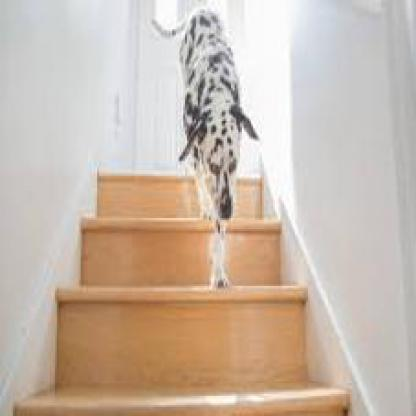stair_up: (46, 214, 310, 380)
